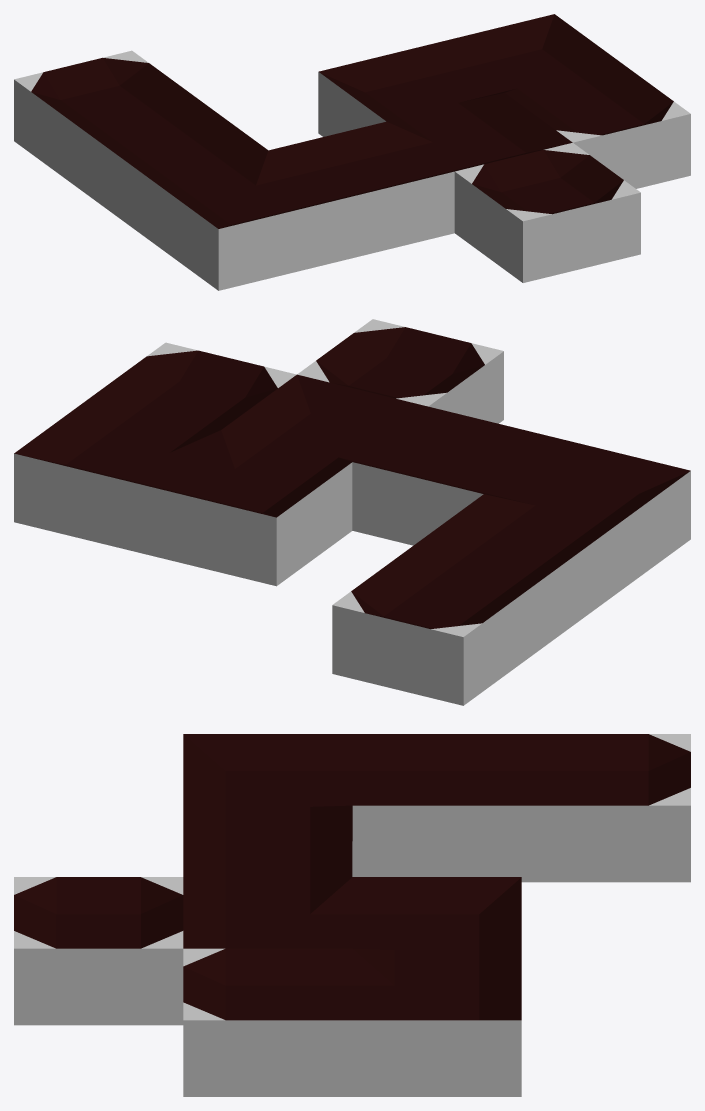
The model's file is 45f_path.obj.
3 renders of one model, top to bottom at view 1: azimuth 30°, elevation 25°; view 2: azimuth 150°, elevation 25°; view 3: azimuth 270°, elevation 25°, orthographic. The views are drawn at different scales.
Visible parts, largest first — view 1: foil.hole.3.0_Cube.091, foil.corner.1.1_corner.450, foil.through.2.1_through.089, foil.ending.1.3_ending.179, foil.through.1.2_through.088, foil.ending.4.1_ending.180, foil.corner.3.2_corner.452, foil.corner.4.2_corner.453, foil.corner.3.1_corner.451; view 2: foil.ending.1.3_ending.179, foil.corner.3.2_corner.452, foil.corner.4.2_corner.453, foil.through.2.1_through.089, foil.corner.1.1_corner.450, foil.through.1.2_through.088, foil.hole.3.0_Cube.091, foil.corner.3.1_corner.451, foil.ending.4.1_ending.180; view 3: foil.ending.4.1_ending.180, foil.ending.1.3_ending.179, foil.hole.3.0_Cube.091, foil.through.1.2_through.088, foil.corner.4.2_corner.453, foil.corner.3.2_corner.452, foil.corner.1.1_corner.450, foil.through.2.1_through.089, foil.corner.3.1_corner.451.
Part boxes in pixels (<box>): foil.hole.3.0_Cube.091: <box>454,142,640,282</box>; foil.corner.1.1_corner.450: <box>150,150,336,290</box>; foil.through.2.1_through.089: <box>268,121,454,261</box>; foil.ending.1.3_ending.179: <box>14,50,199,190</box>; foil.through.1.2_through.088: <box>82,100,267,240</box>; foil.ending.4.1_ending.180: <box>505,64,690,188</box>; foil.corner.3.2_corner.452: <box>318,43,503,136</box>; foil.corner.4.2_corner.453: <box>437,14,622,100</box>; foil.corner.3.1_corner.451: <box>387,93,572,174</box>; foil.ending.1.3_ending.179: <box>332,550,539,705</box>; foil.corner.3.2_corner.452: <box>145,430,352,586</box>; foil.corner.4.2_corner.453: <box>14,398,220,553</box>; foil.through.2.1_through.089: <box>352,406,559,545</box>; foil.corner.1.1_corner.450: <box>484,439,690,594</box>; foil.through.1.2_through.088: <box>408,494,615,649</box>; foil.hole.3.0_Cube.091: <box>297,319,503,423</box>; foil.corner.3.1_corner.451: <box>221,374,427,530</box>; foil.ending.4.1_ending.180: <box>90,342,296,439</box>; foil.ending.4.1_ending.180: <box>183,948,352,1096</box>; foil.ending.1.3_ending.179: <box>521,734,690,882</box>; foil.hole.3.0_Cube.091: <box>14,877,183,1025</box>; foil.through.1.2_through.088: <box>352,734,521,876</box>; foil.corner.4.2_corner.453: <box>352,949,521,1096</box>; foil.corner.3.2_corner.452: <box>352,877,521,967</box>; foil.corner.1.1_corner.450: <box>183,734,352,824</box>; foil.through.2.1_through.089: <box>183,805,352,896</box>; foil.corner.3.1_corner.451: <box>183,877,352,948</box>.
Size of the model in its own units: 8 by 1 by 8.
